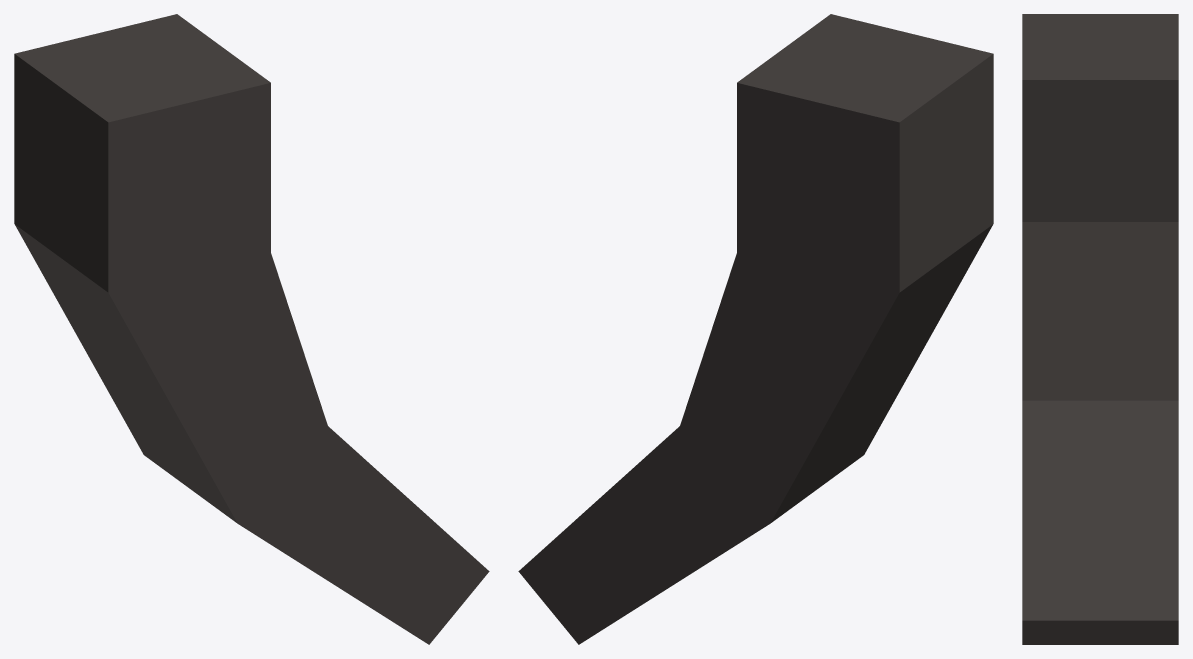
The model's file is Shotgun4_06_3.fbx.
3 renders of one model, left to right at view 1: azimuth 30°, elevation 25°; view 2: azimuth 150°, elevation 25°; view 3: azimuth 270°, elevation 25°, orthographic. The views are drawn at different scales.
Parts seen in each view (by area): view 1: Shotgun4_06_3; view 2: Shotgun4_06_3; view 3: Shotgun4_06_3.
Part boxes in pixels (bbox=[...]): Shotgun4_06_3: bbox=[14, 14, 489, 644]; Shotgun4_06_3: bbox=[518, 14, 993, 644]; Shotgun4_06_3: bbox=[1022, 14, 1178, 644].
Bounding box in the file's own units: 0.0219 × 0.0329 × 0.00934.
